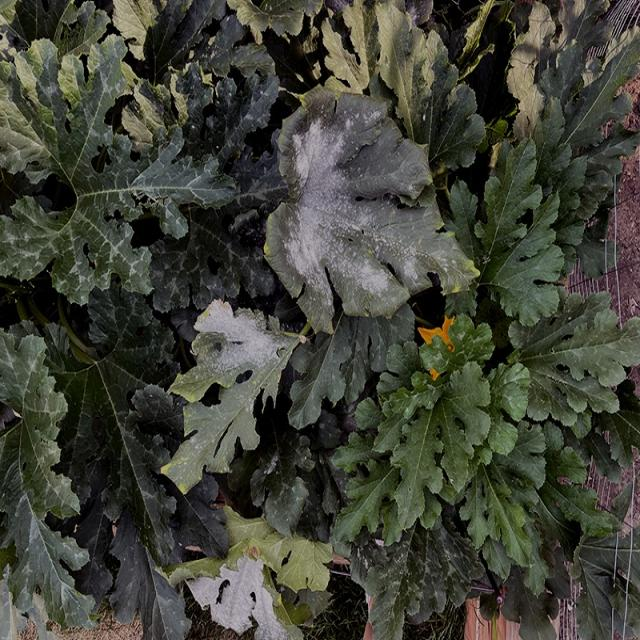Powdery Mildew: (250, 102, 404, 322), (160, 276, 273, 432), (171, 529, 314, 640)
